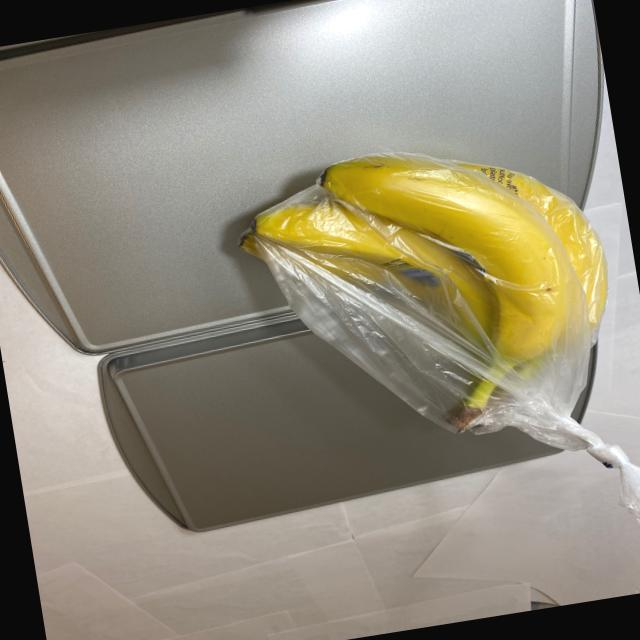banana: (216, 119, 630, 478)
